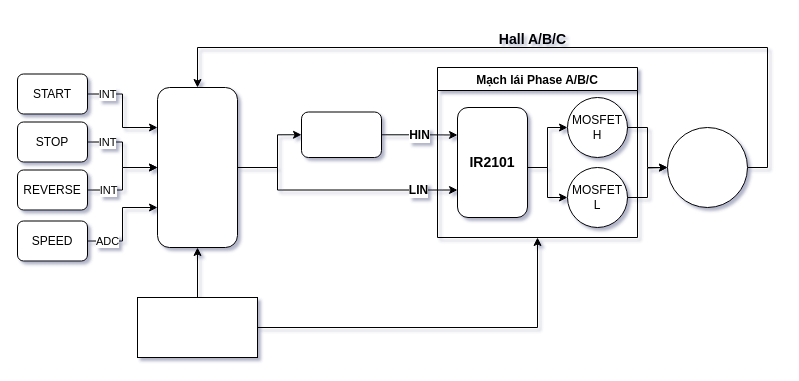
This 799x381 diagram has some shape labels left out. Each missing label, with the centre of its shape:
Khối nguồn: point (197, 327)
Vi Điều Khiển: point (197, 167)
Điều xung PWM: point (341, 134)
Động cơ BLDC: point (707, 167)
